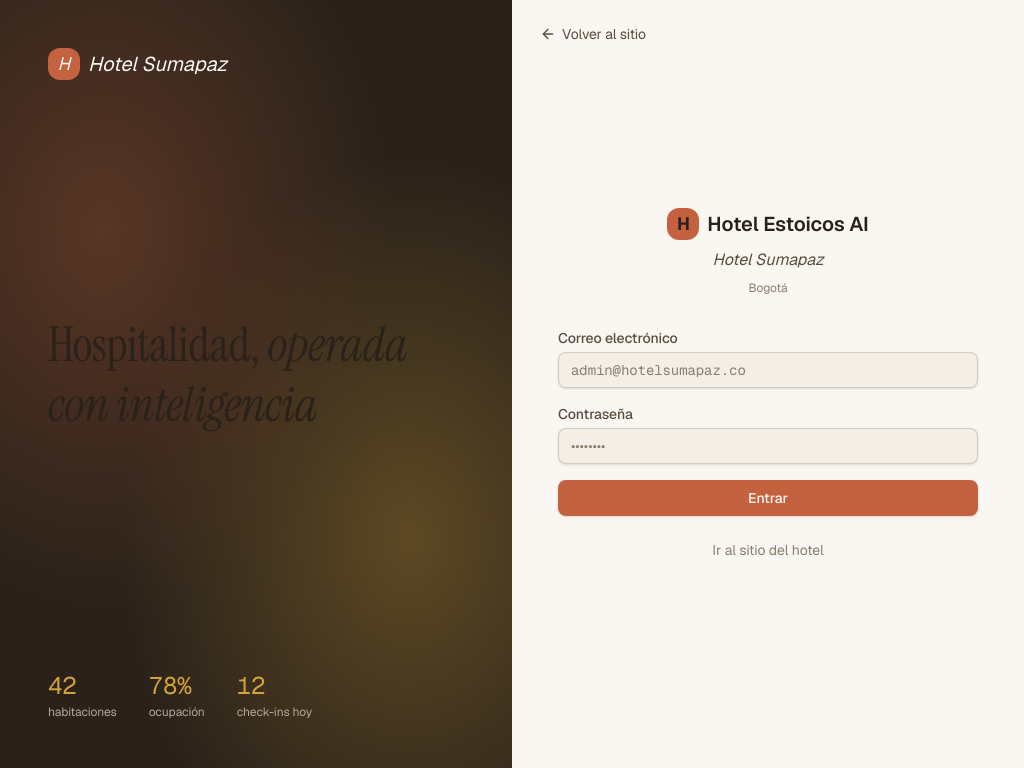
LoginPage › shows "Credenciales incorrectas" on 401 error
Type "test@test.com" into the field labelled "Correo electrónico". click: (768,370)
box: [558,352,978,388]
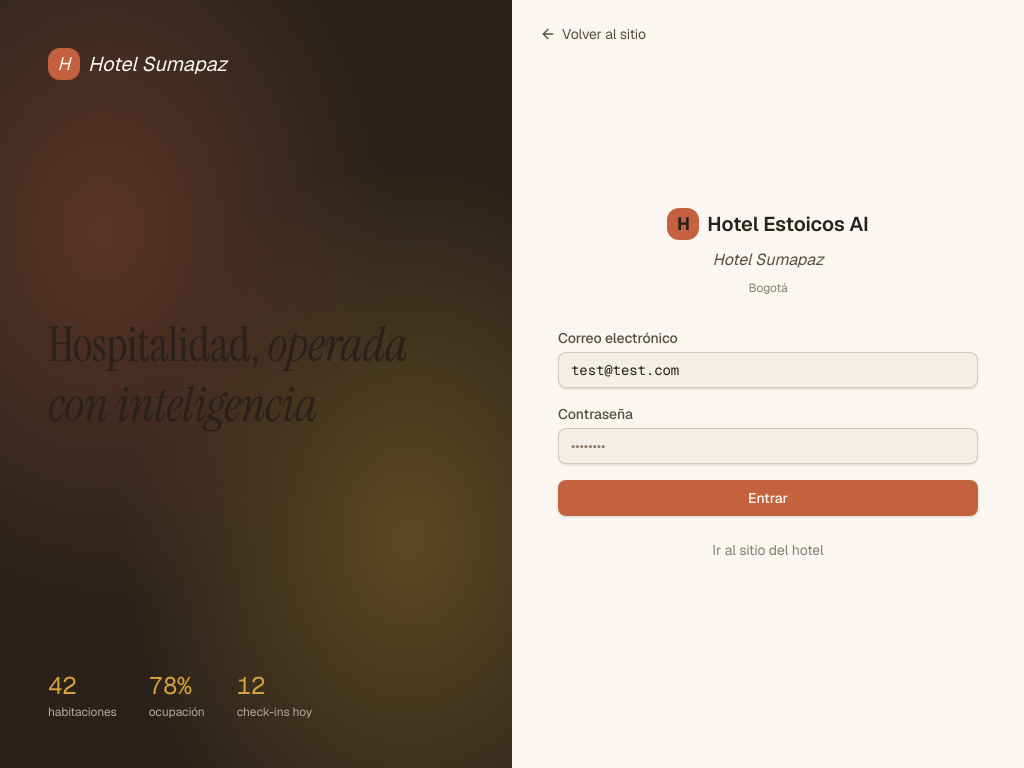
Type "wrongpass123" into the password field labelled "Contraseña". click: (768,446)
box: [558,428,978,464]
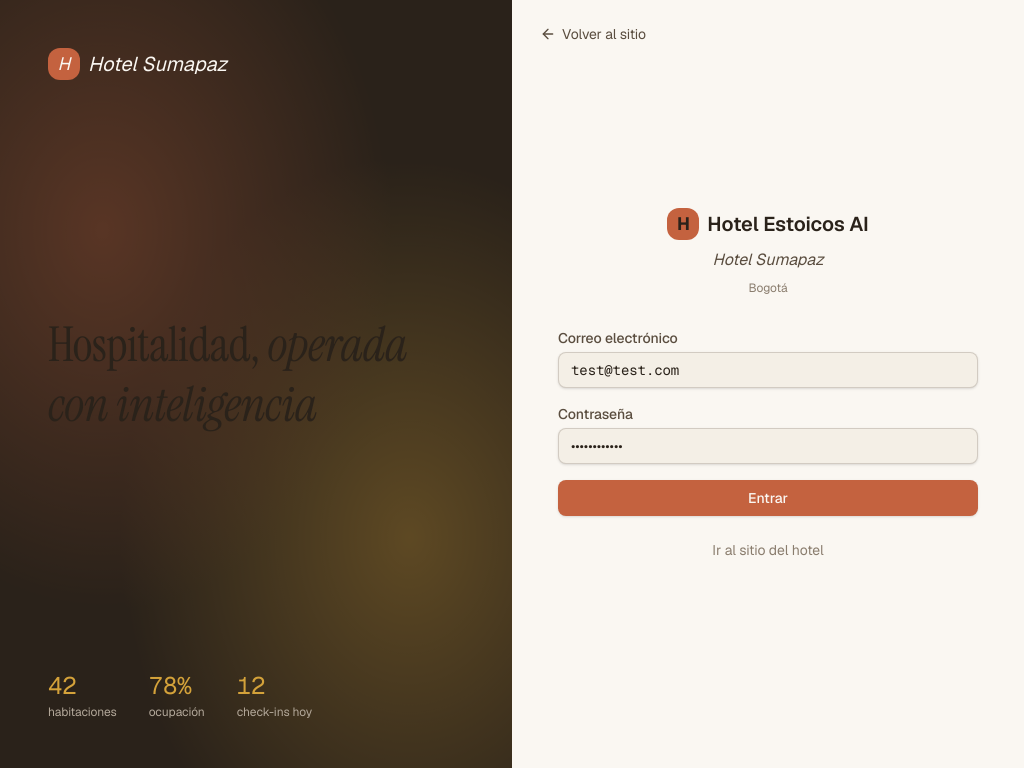
Click the button "Entrar". click: (768,498)
box: [558,480,978,516]
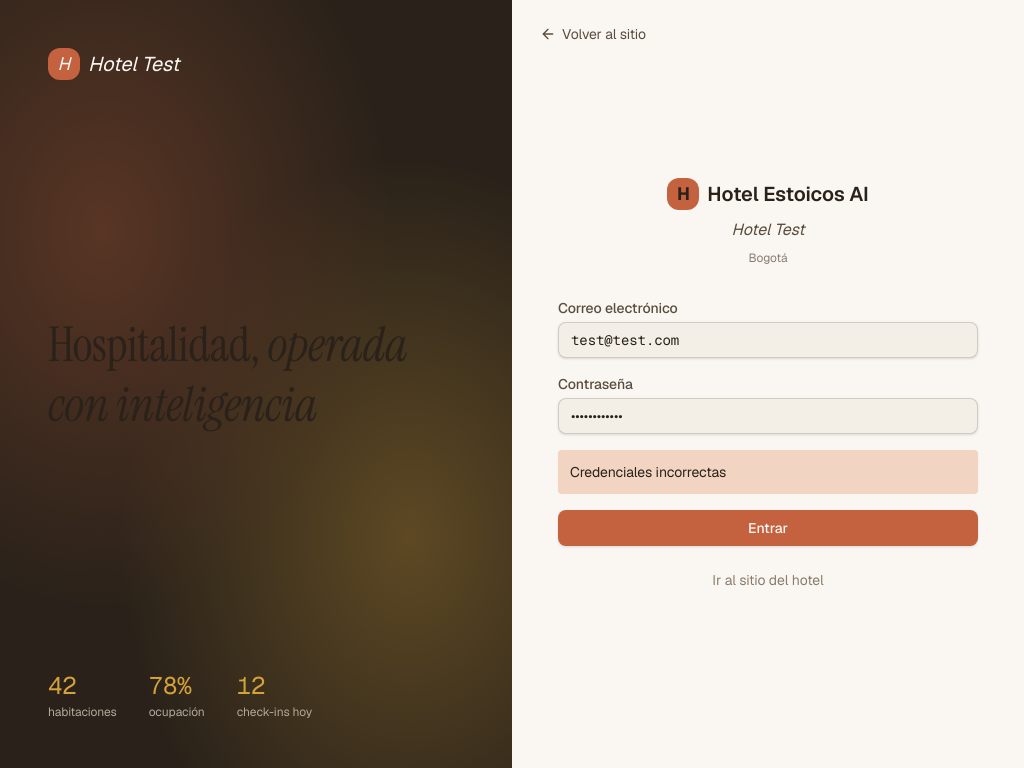
Expected: the text "Credenciales incorrectas" is shown, [558,450,978,494]
